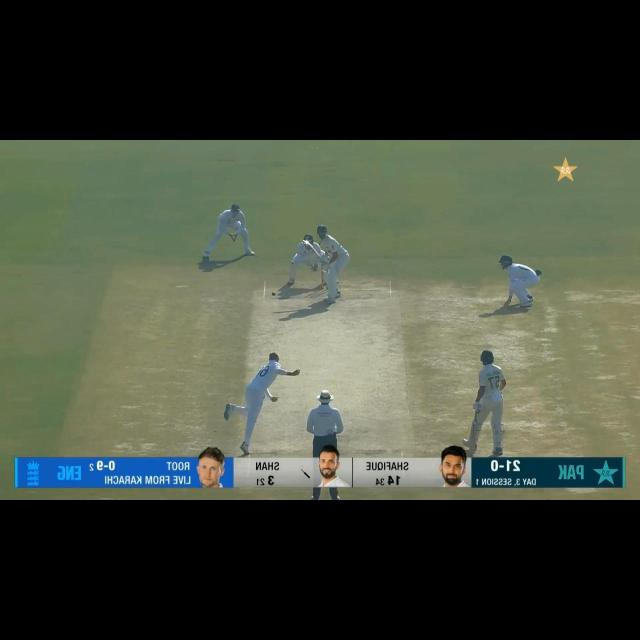bat: (468, 420, 478, 456), (302, 239, 321, 257)
toe: (302, 238, 308, 244), (467, 452, 477, 454)
